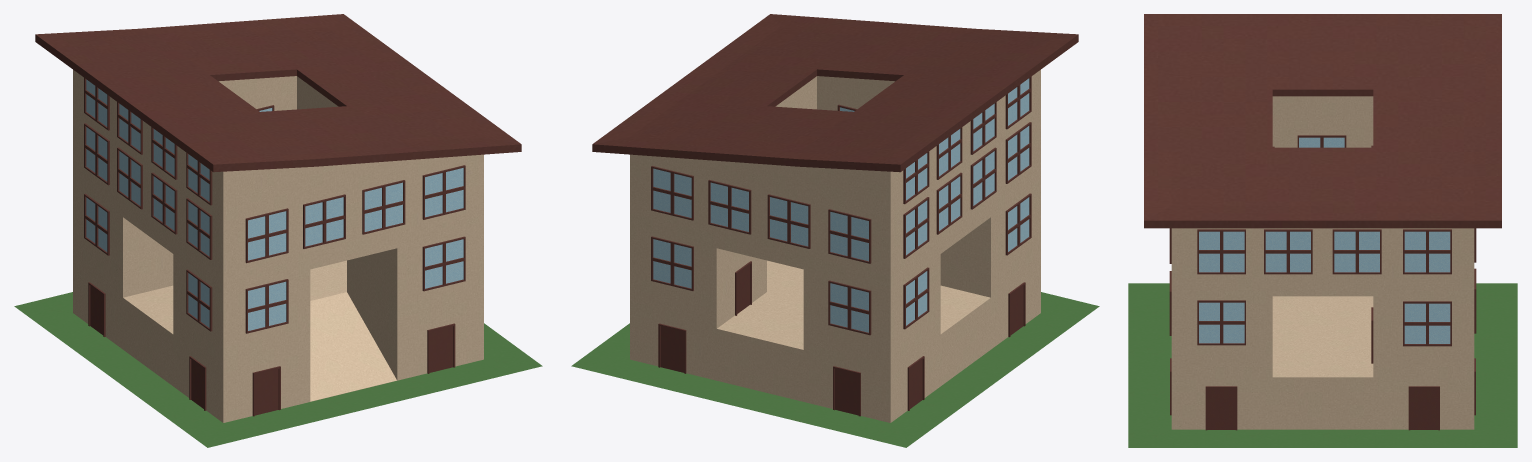
Rendered from house9.obj.
3 views of the same model, side by side, from view 1: azimuth 30°, elevation 25°; view 2: azimuth 150°, elevation 25°; view 3: azimuth 270°, elevation 25° (orthographic).
Visible parts, largest first — view 1: Cube.004_Cube.079, Plane.008_Plane.002, Plane.009_Plane.002, Plane.002_Plane.010, Cube.011_Cube.085, Cube.006_Cube.080, Cube.007_Cube.081, Cube.010_Cube.084, Cube.009_Cube.083, Cube.008_Cube.082, House.007_Plane.039, House.008_Plane.040 (+12 smaller); view 2: Cube.004_Cube.079, Plane.002_Plane.010, Plane.007_Plane.003, Plane.008_Plane.002, Cube.042_Cube.097, Cube.040_Cube.095, Cube.041_Cube.096, Cube.039_Cube.094, Cube.037_Cube.092, Cube.038_Cube.093, House.004_Plane.036, Cube.048_Cube.103 (+13 smaller); view 3: Cube.004_Cube.079, Plane.007_Plane.003, Plane.009_Plane.002, Plane.002_Plane.010, Plane.008_Plane.002, Cube.034_Cube.089, Cube.012_Cube.086, Cube.032_Cube.087, Cube.033_Cube.088, Cube.035_Cube.090, Cube.036_Cube.091, House.010_Plane.042 (+2 smaller).
Part boxes in pixels (<box>): Cube.004_Cube.079: <box>35,14,521,422</box>; Plane.008_Plane.002: <box>111,368,374,447</box>; Plane.009_Plane.002: <box>354,323,542,406</box>; Plane.002_Plane.010: <box>14,292,147,376</box>; Cube.011_Cube.085: <box>422,236,465,291</box>; Cube.006_Cube.080: <box>245,279,288,333</box>; Cube.007_Cube.081: <box>245,208,288,263</box>; Cube.010_Cube.084: <box>422,165,465,219</box>; Cube.009_Cube.083: <box>362,180,405,234</box>; Cube.008_Cube.082: <box>303,194,345,248</box>; House.007_Plane.039: <box>427,323,455,373</box>; House.008_Plane.040: <box>252,366,280,416</box>; Cube.004_Cube.079: <box>592,14,1078,422</box>; Plane.002_Plane.010: <box>739,368,1002,447</box>; Plane.007_Plane.003: <box>571,323,759,406</box>; Plane.008_Plane.002: <box>966,292,1099,376</box>; Cube.042_Cube.097: <box>828,280,871,335</box>; Cube.040_Cube.095: <box>767,194,810,248</box>; Cube.041_Cube.096: <box>828,209,871,263</box>; Cube.039_Cube.094: <box>708,180,751,234</box>; Cube.037_Cube.092: <box>651,236,693,290</box>; Cube.038_Cube.093: <box>651,166,693,220</box>; House.004_Plane.036: <box>658,323,686,373</box>; Cube.048_Cube.103: <box>1005,193,1031,255</box>; Cube.004_Cube.079: <box>1144,14,1501,429</box>; Plane.007_Plane.003: <box>1323,365,1517,447</box>; Plane.009_Plane.002: <box>1128,365,1322,447</box>; Plane.002_Plane.010: <box>1474,283,1517,365</box>; Plane.008_Plane.002: <box>1128,283,1171,365</box>; Cube.034_Cube.089: <box>1332,229,1381,274</box>; Cube.012_Cube.086: <box>1197,300,1245,345</box>; Cube.032_Cube.087: <box>1197,229,1245,274</box>; Cube.033_Cube.088: <box>1264,229,1312,274</box>; Cube.035_Cube.090: <box>1403,229,1451,274</box>; Cube.036_Cube.091: <box>1403,301,1451,346</box>; House.010_Plane.042: <box>1205,386,1237,430</box>.
Size of the model in its own units: 40 by 32.28 by 40.
